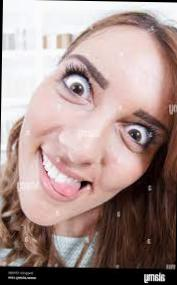opened: (39, 59, 167, 155)
